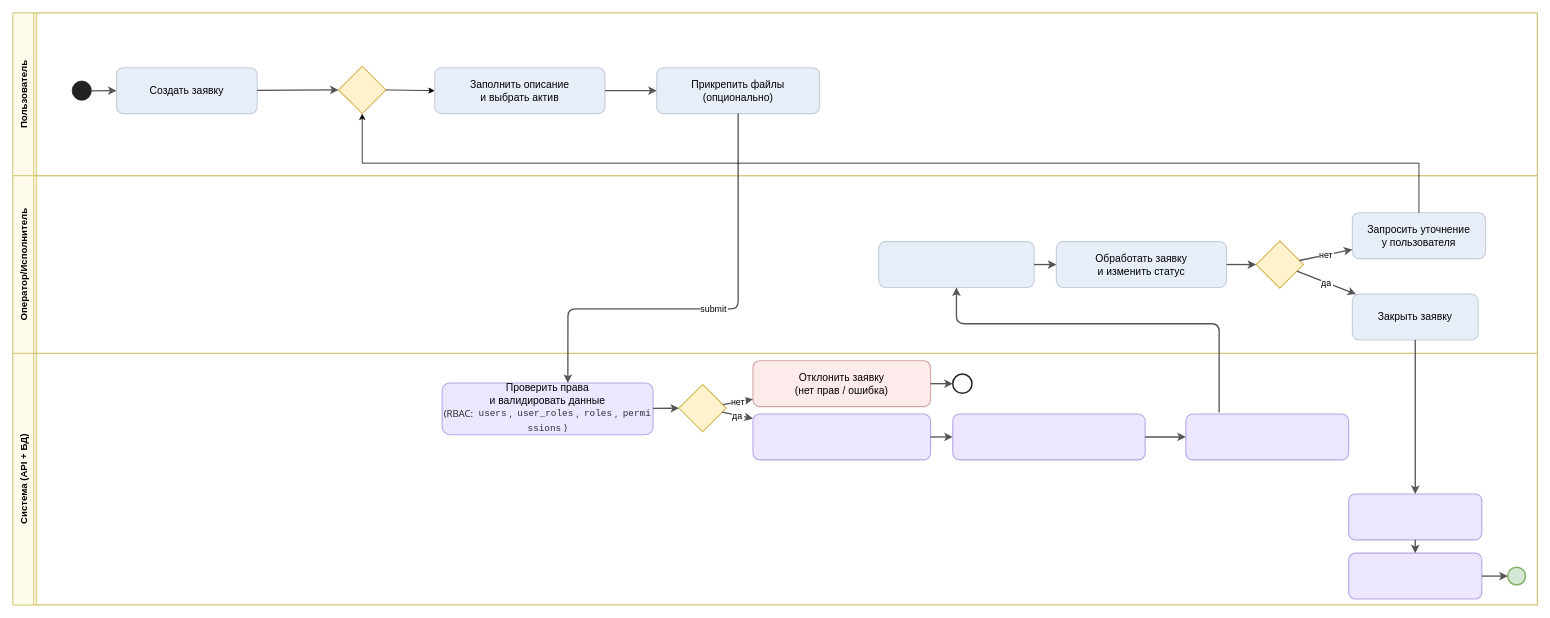
Some shapes in this 1550 by 618 pixel diagram are drawn without their labels. Each missing label, with the centre of its shape:
Записать историю изменений (task_history): (x=1415, y=516)
Записать событие в аудит (audit_events): (x=1415, y=575)
Назначить исполнителя: (x=956, y=264)
Сохранить вложения и метаданные ( desk_attachments , task_attachments ): (x=1048, y=436)
Сохранить заявку и связи с активами ( tasks , task_equipment ): (x=841, y=436)
Уведомить оператора о новой заявке: (x=1267, y=436)
